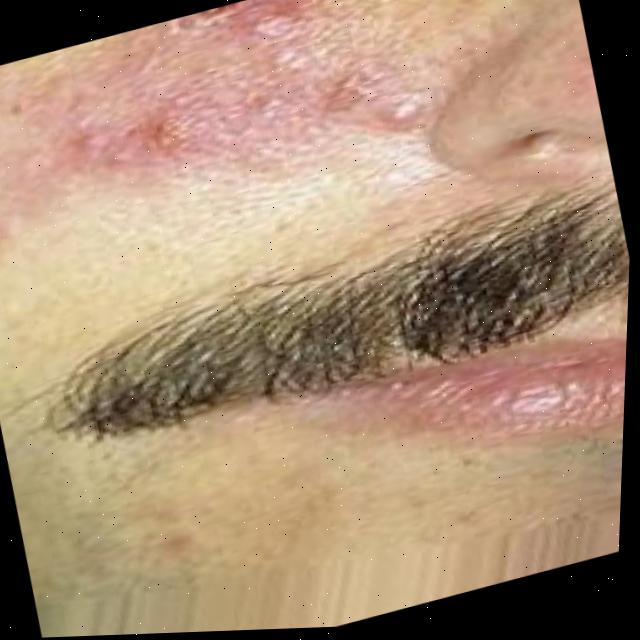Rosacea: (98, 0, 409, 199)
